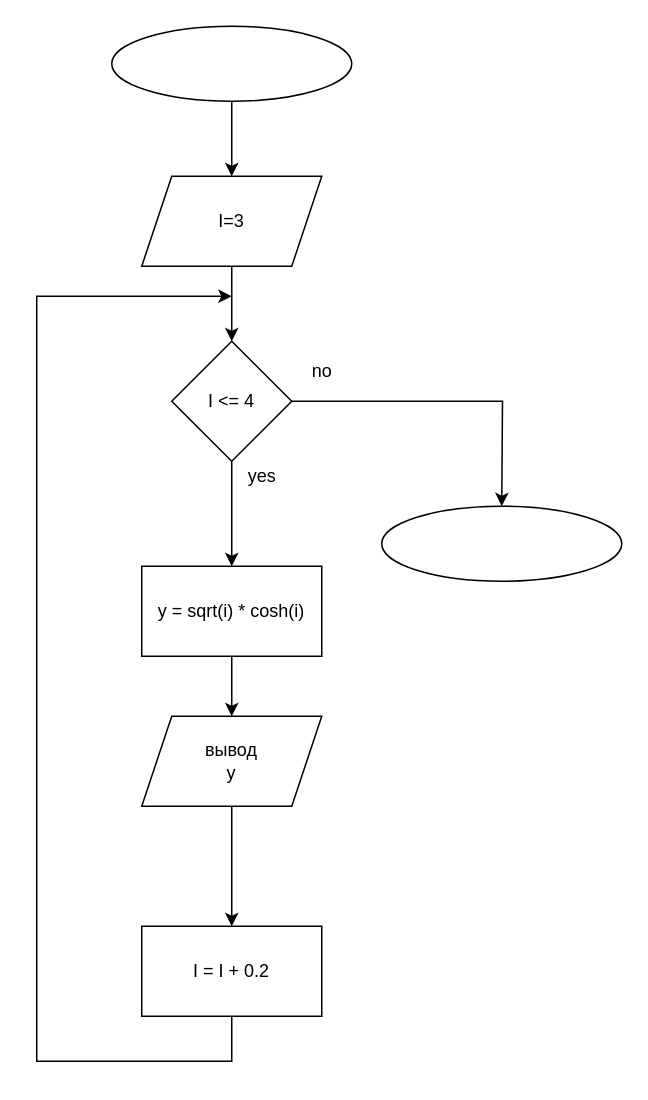
Some shapes in this 648 by 1100 pixel diagram are drawn without their labels. The shapes that lost their labels are listed below. From the top down, each one's centre as x and y in pixels, then its label:
At point (231, 63): "START".
At point (501, 543): "END".
